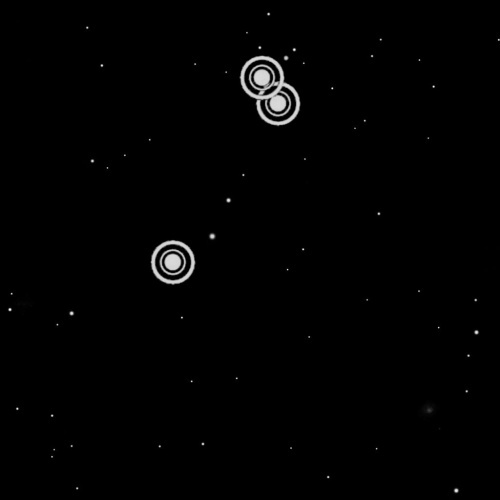canis_minor: (147, 48, 306, 292)
